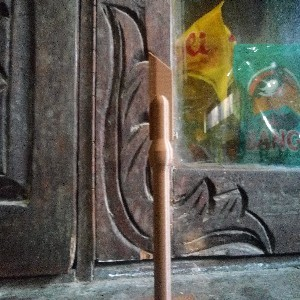cutter: (146, 50, 175, 300)
